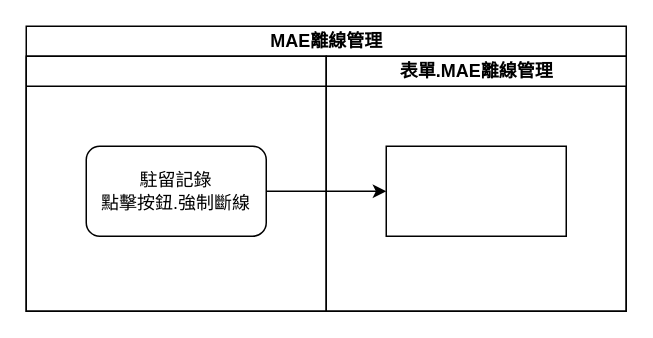
This 653x338 diagram has some shape labels left out. The box of each missing label's shape, as (x1, y1, x2, y2) in pixels:
管理者: (25, 55, 326, 311)
限制離線使用者 不允上傳資料: (385, 145, 566, 236)
